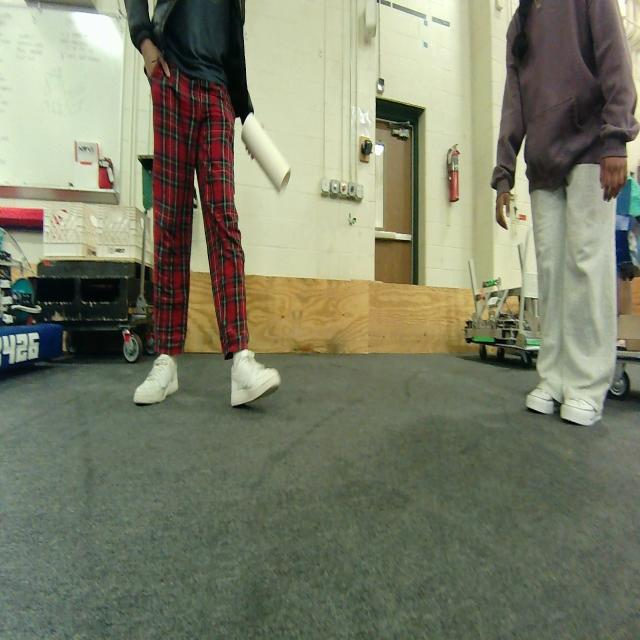coral: (238, 101, 303, 199)
